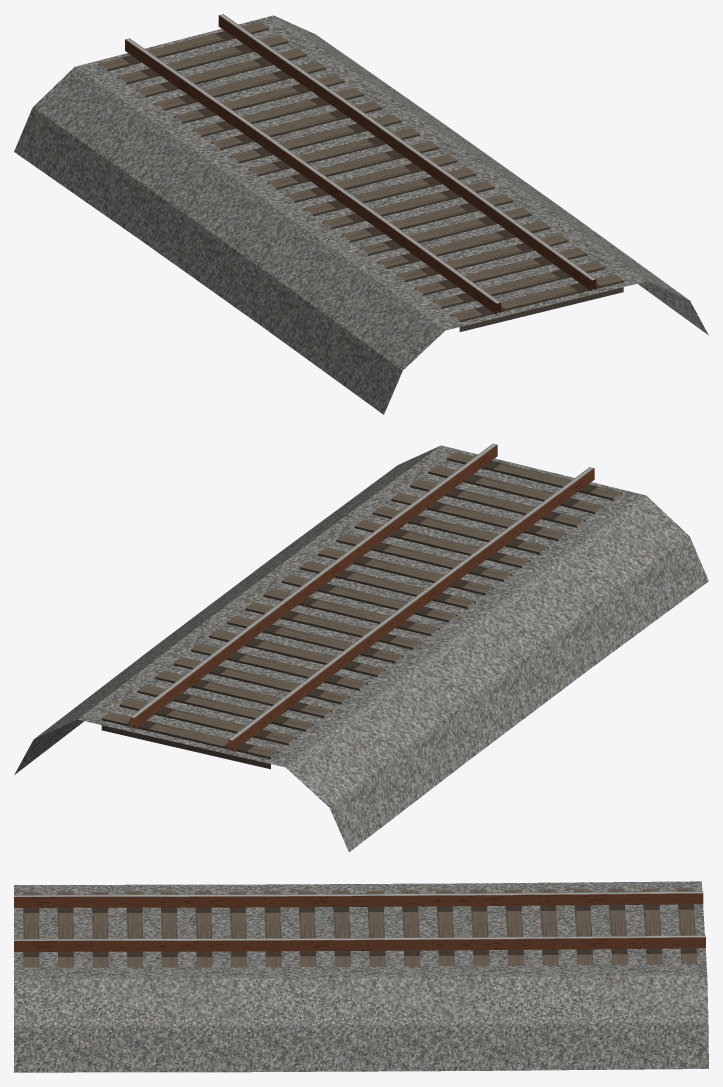
Rendered from rail_track_curve_r400_10m_l_v2_quest.glb.
The picture shows the model from 3 angles, top to bottom: view 1: azimuth 30°, elevation 25°; view 2: azimuth 150°, elevation 25°; view 3: azimuth 270°, elevation 25°; orthographic projection. The views are drawn at different scales.
Visible parts, largest first — view 1: rail_track_curve_r400_10m_l_v2_quest; view 2: rail_track_curve_r400_10m_l_v2_quest; view 3: rail_track_curve_r400_10m_l_v2_quest.
Boxes of the visible parts, x1=… form: rail_track_curve_r400_10m_l_v2_quest: x1=14, y1=14, x2=708, y2=414; rail_track_curve_r400_10m_l_v2_quest: x1=14, y1=443, x2=708, y2=852; rail_track_curve_r400_10m_l_v2_quest: x1=14, y1=881, x2=708, y2=1072.
Size of what is drawn, in the model's own units: 5.27 by 1.27 by 10.06.
2 materials, 2 textured.
